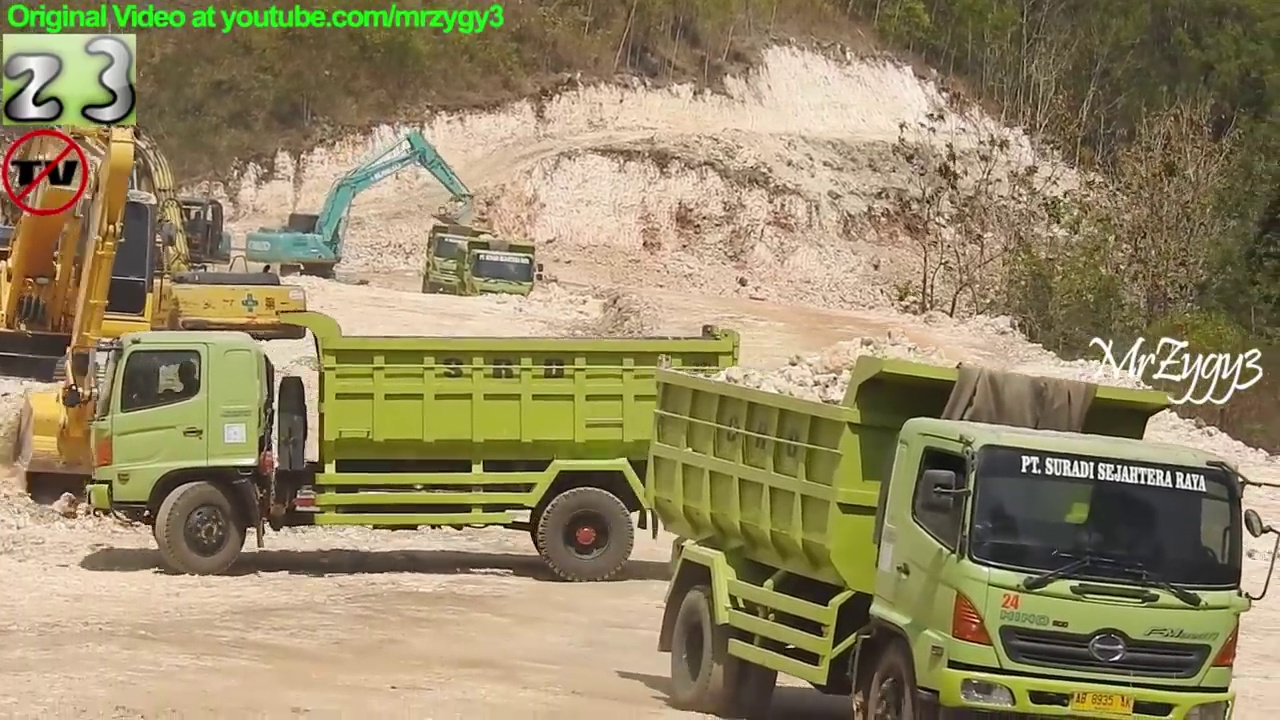excavator: (3, 64, 315, 400), (1, 90, 185, 503), (71, 114, 271, 331), (241, 127, 485, 296)
truck: (636, 350, 1280, 720), (71, 307, 744, 586), (457, 231, 546, 319), (419, 219, 492, 305)
